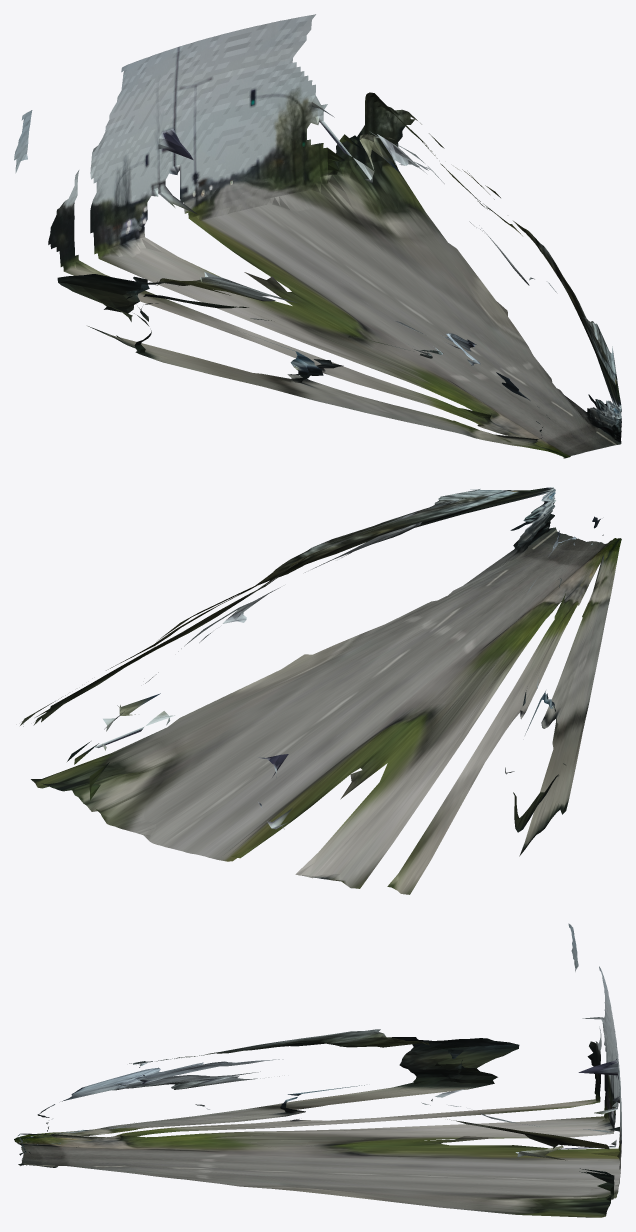
The picture shows the model from 3 angles, top to bottom: view 1: azimuth 30°, elevation 25°; view 2: azimuth 150°, elevation 25°; view 3: azimuth 270°, elevation 25°; orthographic projection. The views are drawn at different scales.
Parts seen in each view (by area): view 1: defaultobject; view 2: defaultobject; view 3: defaultobject.
Part boxes in pixels (box(x1,y1,x2,y2)): defaultobject: box(14, 14, 621, 458); defaultobject: box(20, 487, 621, 894); defaultobject: box(14, 923, 621, 1217).
Bounding box in the file's own units: 30.03 × 13.21 × 45.15.
Materials: 1 (1 with a texture image).
